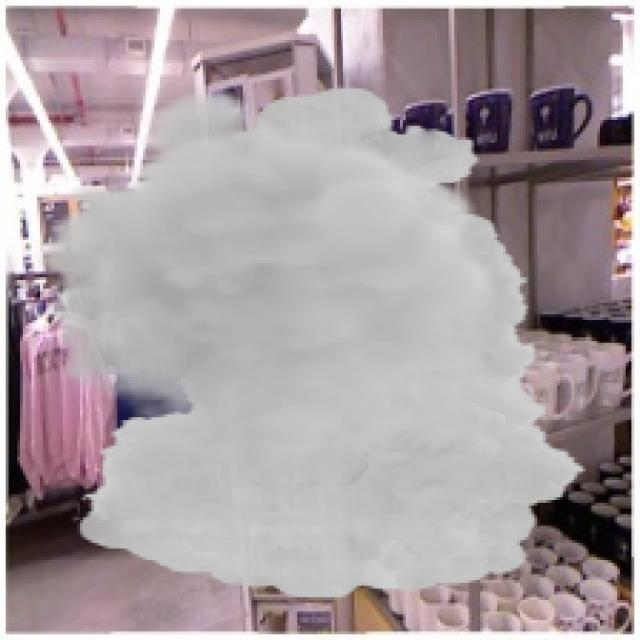smoke: (34, 86, 589, 600)
